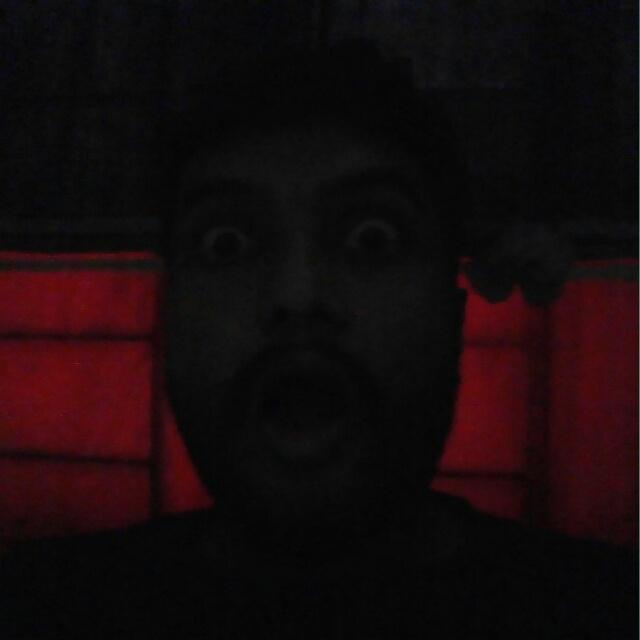Surprised: (146, 83, 477, 571)
